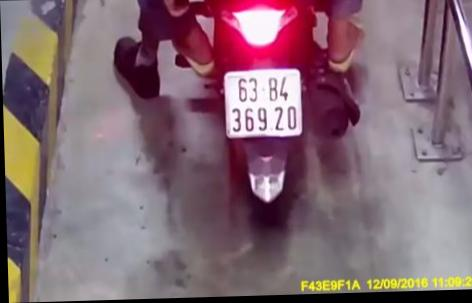LP: (221, 68, 304, 142)
